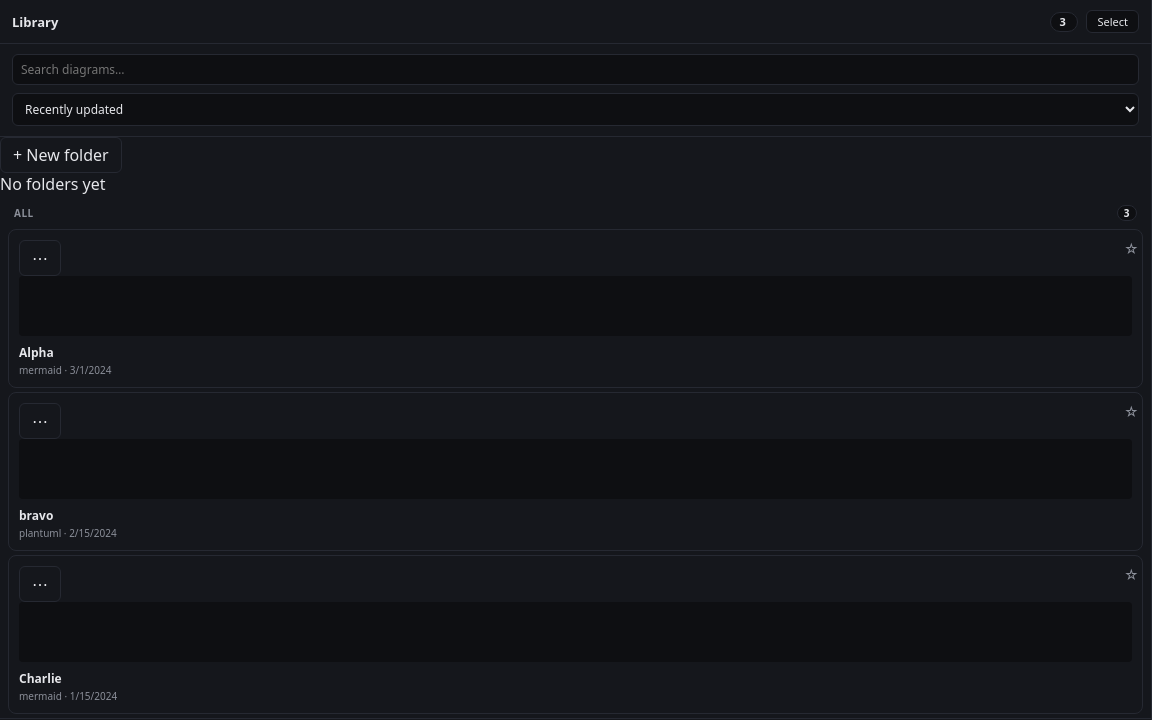
Test: Library sidebar (issue #4) › count badge shows 'matches / total' while searching
Note: Substring "a" matches Alpha, bravo, Charlie — all three.
Type "a" into the field with placeholder "Search diagrams…" at (576, 70), box [12,54,1139,85]
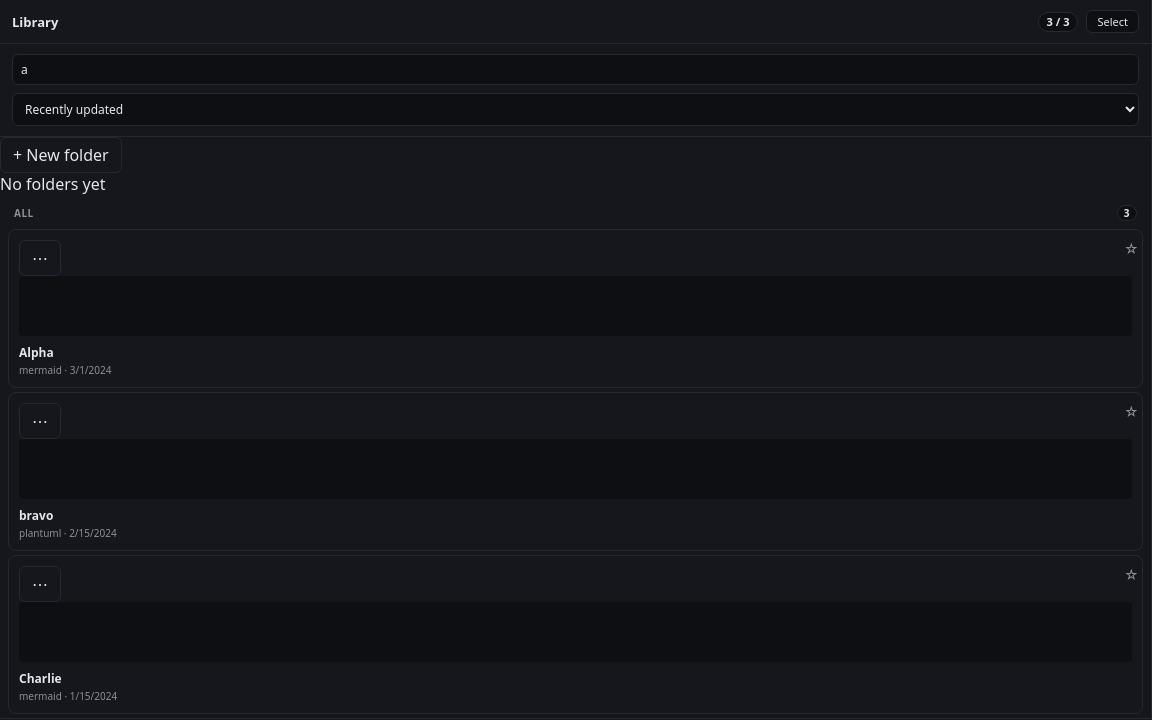
Expected: the text with test id "library-count-badge" reads "3 / 3", [1047,14,1070,29]
Note: Substring "al" only matches Alpha.
Replace the text in the field with placeholder "Search diagrams…" with "al" at (576, 70), box [12,54,1139,85]
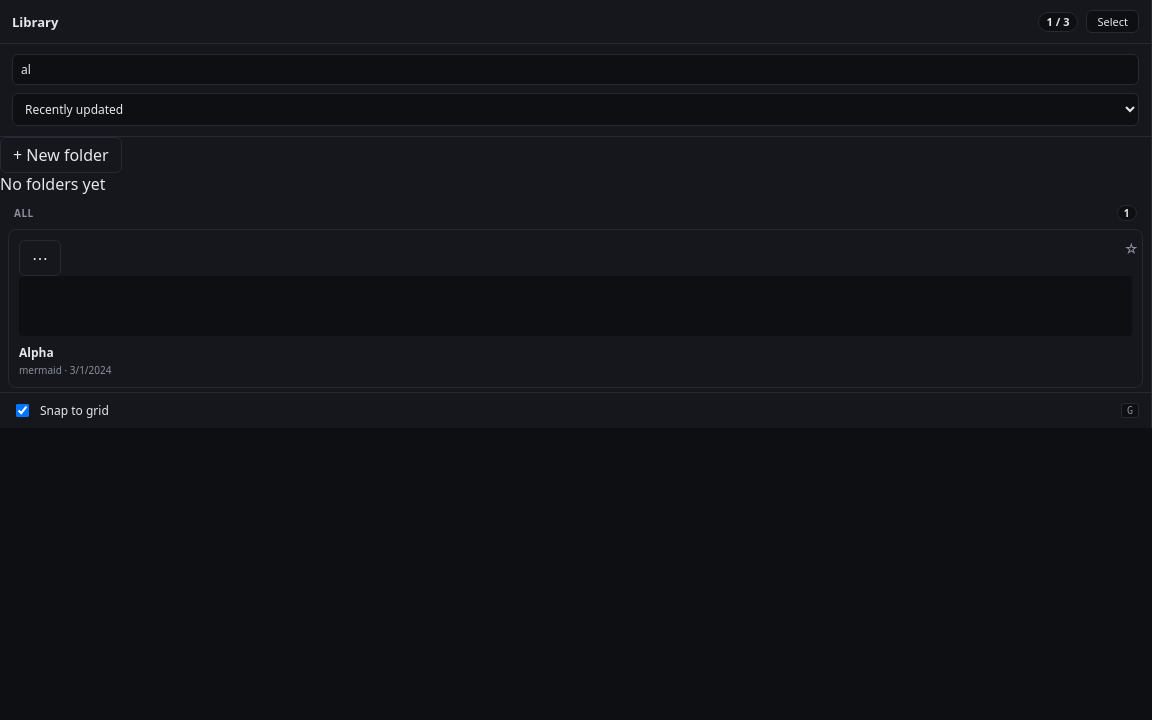
Expected: the text with test id "library-count-badge" reads "1 / 3", [1047,14,1070,29]
Note: Substring with no matches.
Replace the text in the field with placeholder "Search diagrams…" with "zzzzzz" at (576, 70), box [12,54,1139,85]
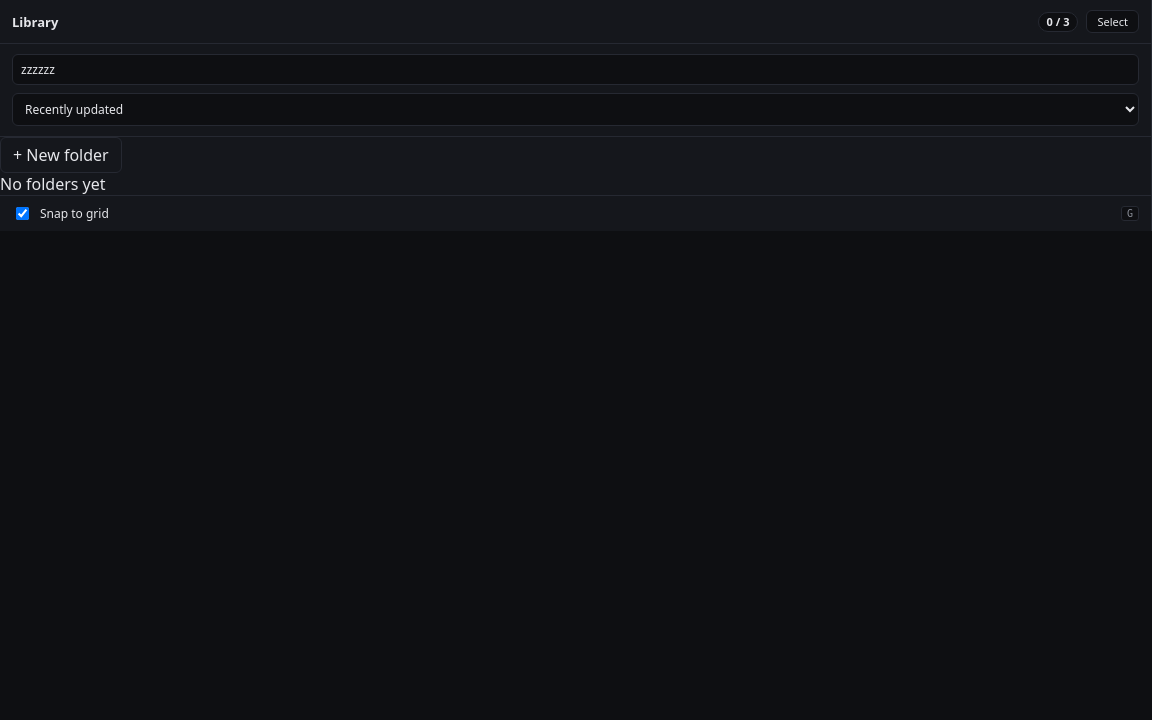
Expected: the text with test id "library-count-badge" reads "0 / 3", [1047,14,1070,29]
